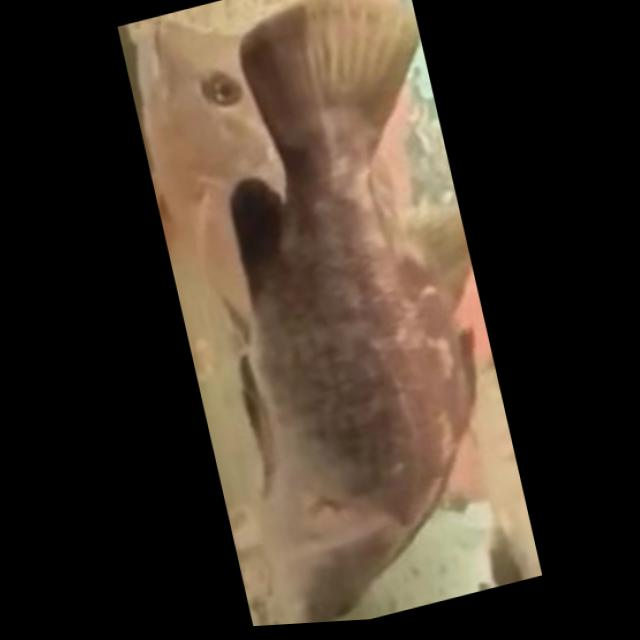Seabass: (154, 0, 543, 631)
